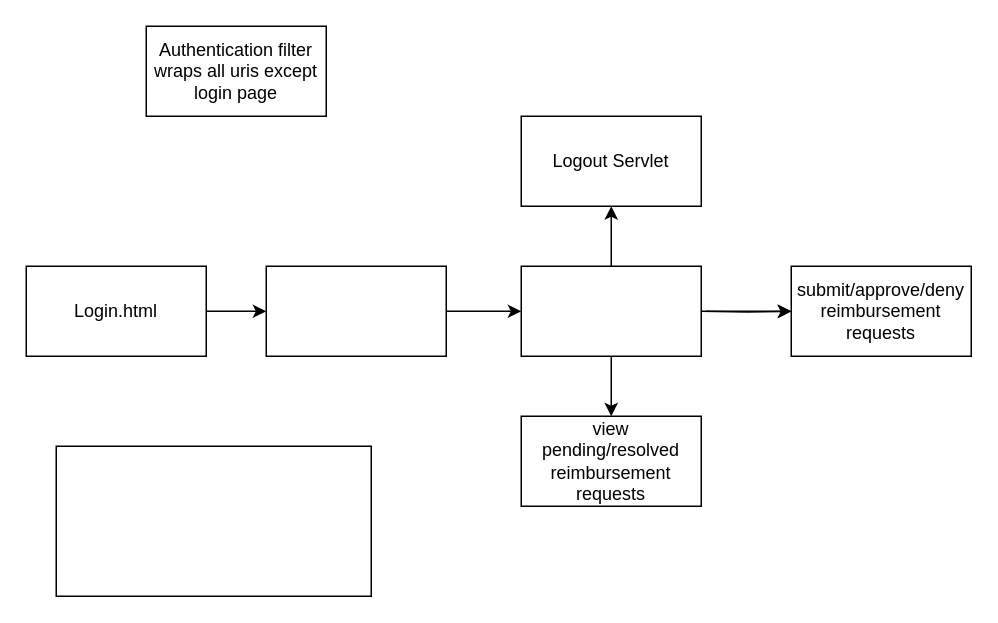
Some shapes in this 998 by 623 pixel diagram are drawn without their labels. Here are the shapes that lost their labels. From the top down, the centre of each, then its label:
At [355,310]: "Login Processing Servlet".
At [610,310]: "Employee and Manager Homepage".
At [213,520]: "Bare Bones Diagram. Additional requirements can be added after.".
